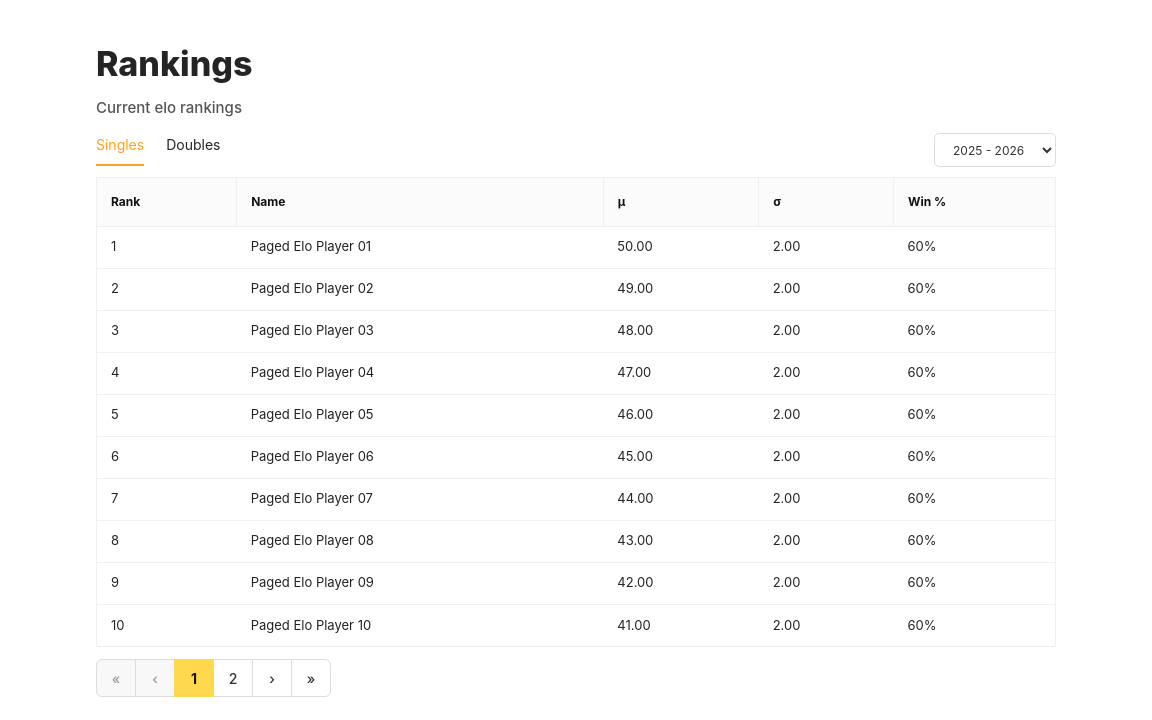
elo rankings paginate below the table and keep ten rows per page
The width and height of the screenshot is (1152, 720).
Check: the link "Paged Elo Player 01" is shown, box [251, 238, 371, 254]
Check: the link "Paged Elo Player 10" is shown, box [251, 617, 371, 633]
Click the button "2": (233, 678) [213, 659, 253, 697]
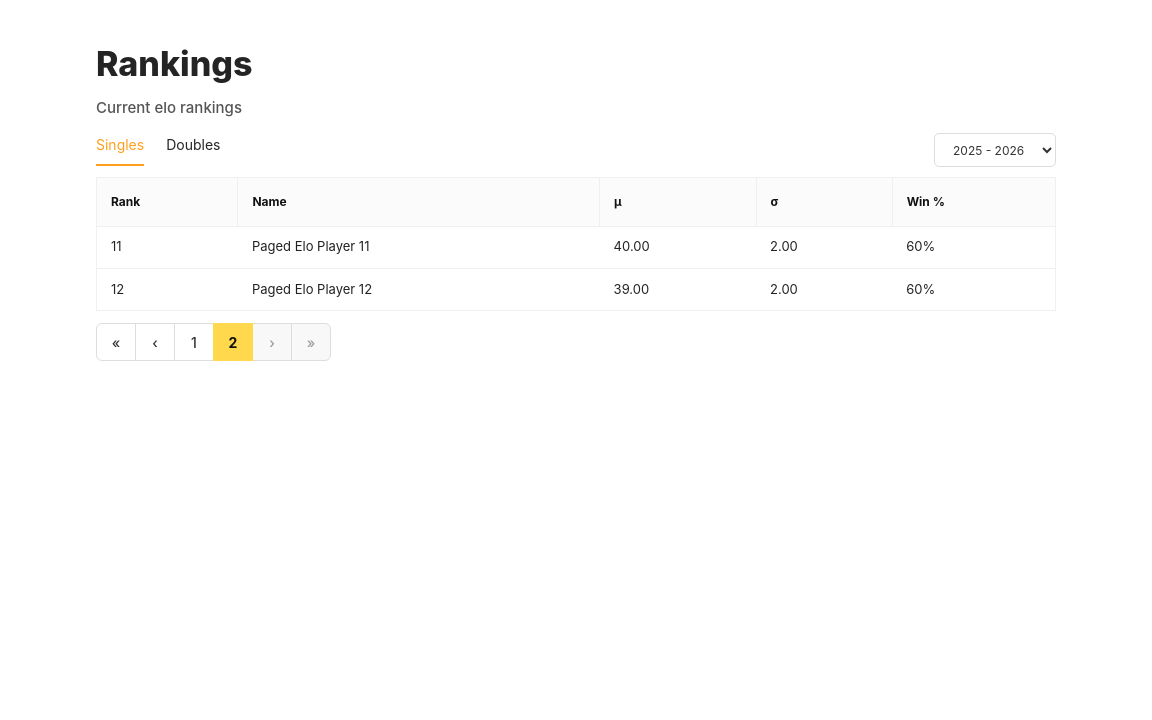
Check: the link "Paged Elo Player 11" is shown, box [252, 238, 369, 254]
Check: the link "Paged Elo Player 12" is shown, box [252, 281, 372, 297]
Check: the link "Paged Elo Player 01" is gone
